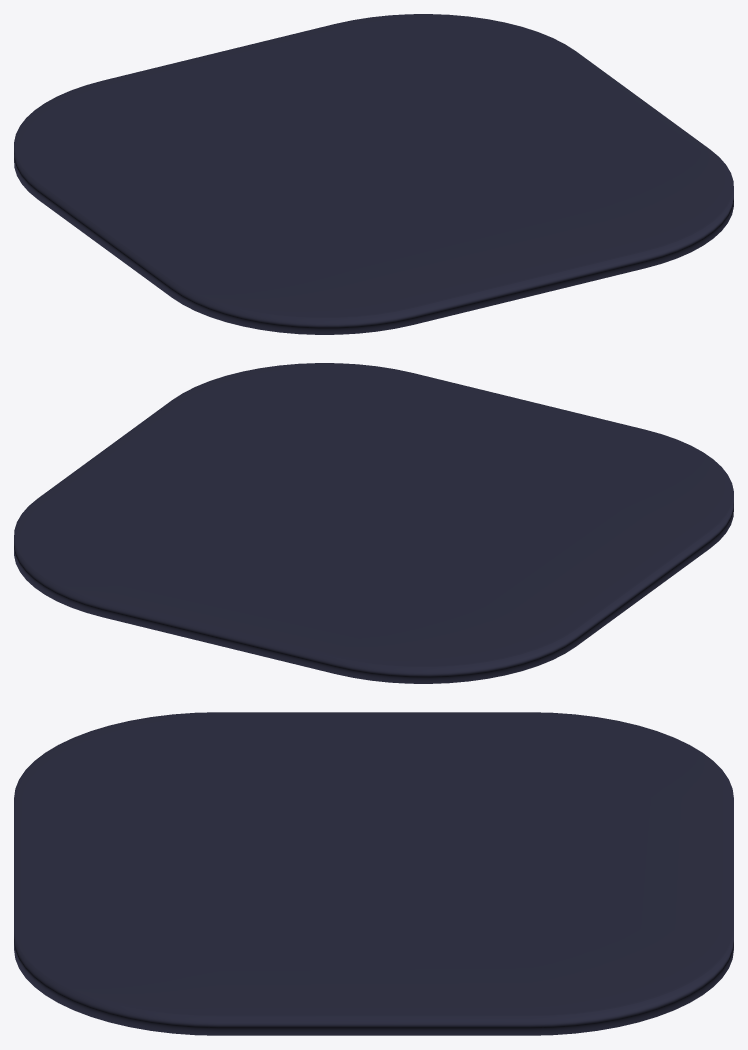
File: ground.fbx
3 renders of one model, top to bottom at view 1: azimuth 30°, elevation 25°; view 2: azimuth 150°, elevation 25°; view 3: azimuth 270°, elevation 25°, orthographic. The views are drawn at different scales.
Parts seen in each view (by area): view 1: ground; view 2: ground; view 3: ground.
Boxes of the visible parts, left/top/right/bottom form: ground: left=14, top=14, right=733, bottom=334; ground: left=14, top=363, right=733, bottom=683; ground: left=14, top=712, right=733, bottom=1035.
Bounding box in the file's own units: 1635 × 56.27 × 1635.
